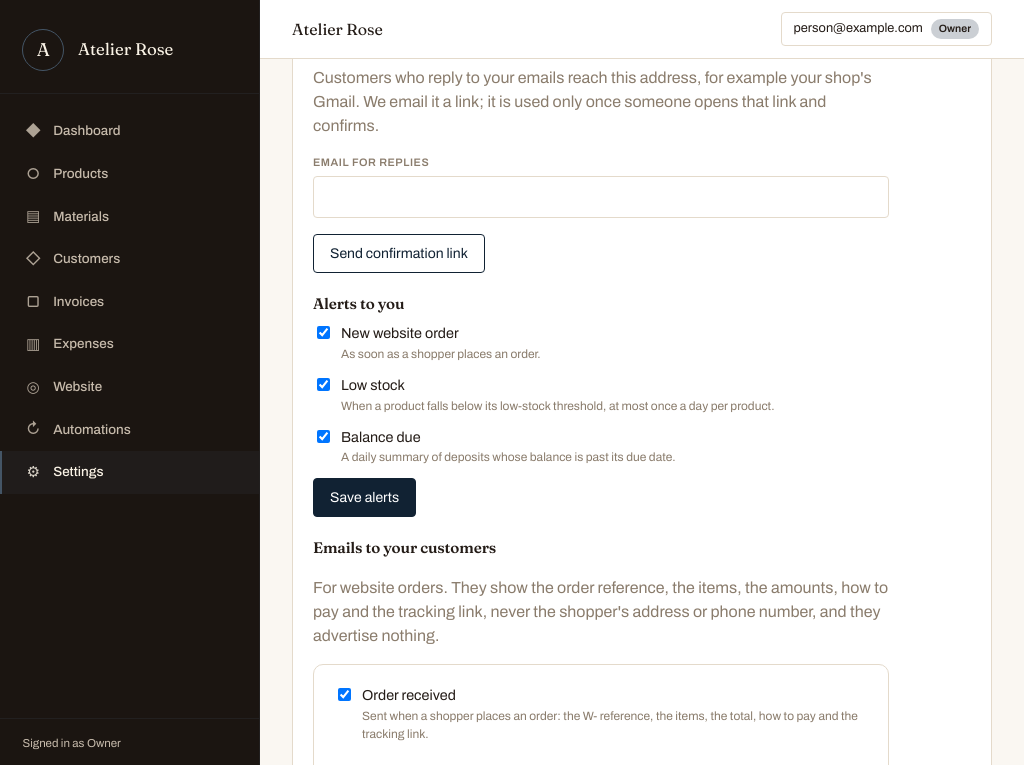
Test case: settings › emails › switches an alert off
(page scrolled)
Step 1. Click the checkbox labelled "Low stock" → (324, 384), box [317,378,330,391]
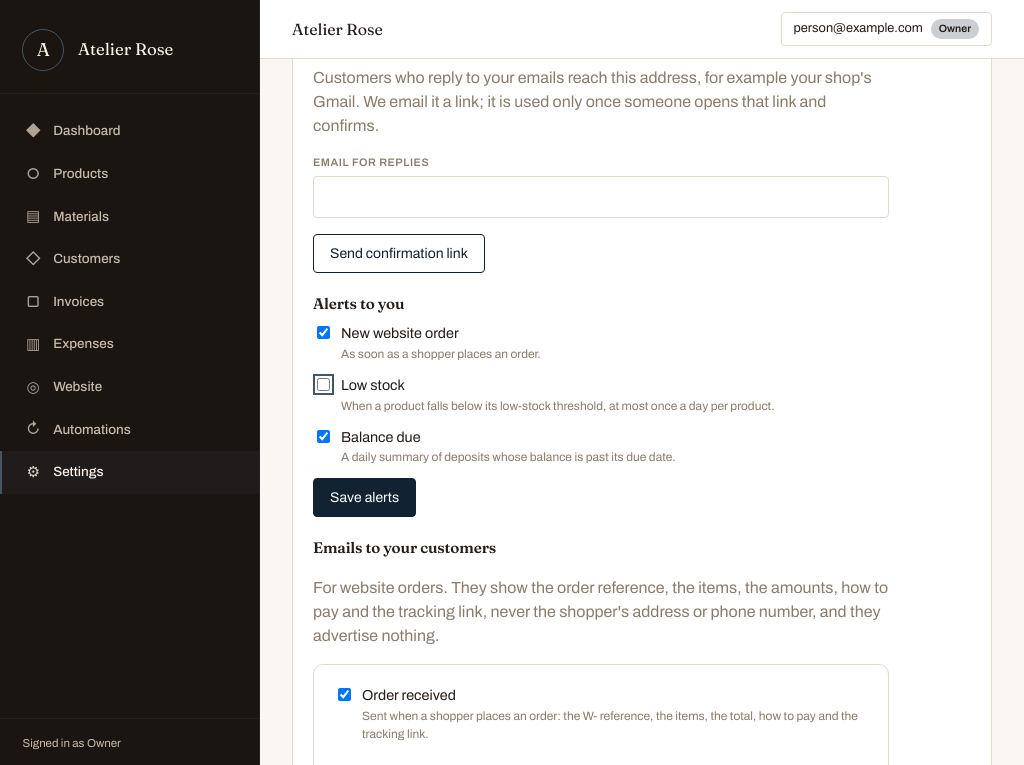
Step 2. Click the button "Save alerts" → (364, 498), box [313,478,416,517]
(page scrolled)
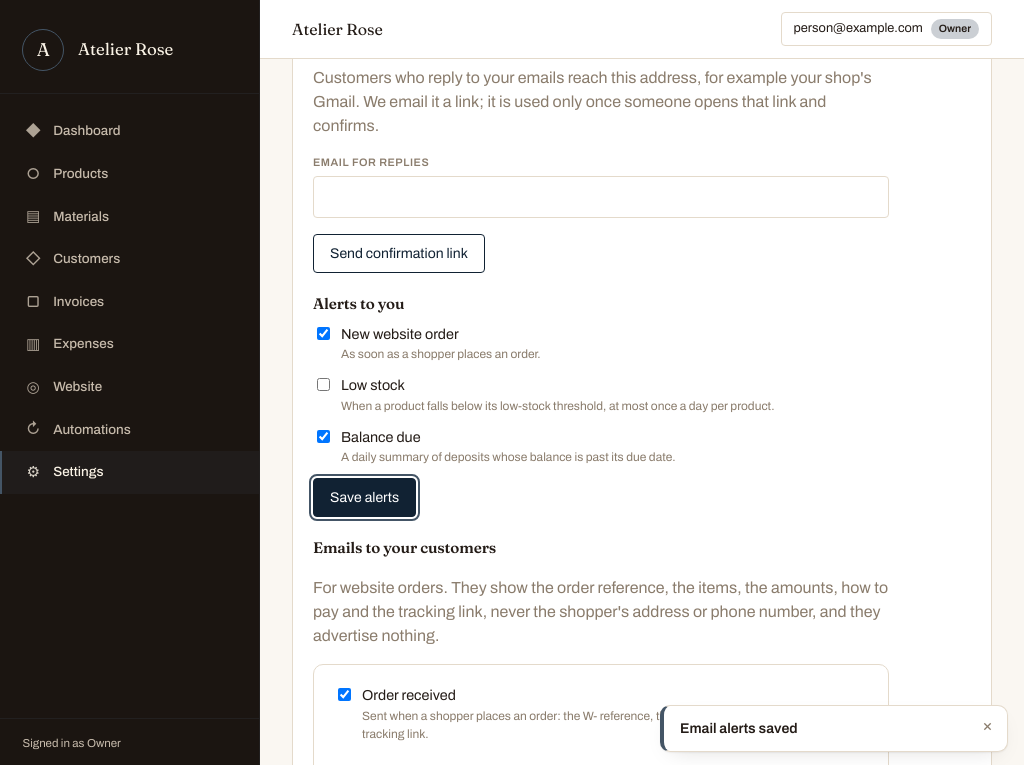
Check: the text "Email alerts saved" is shown, box [680,721,798,736]
